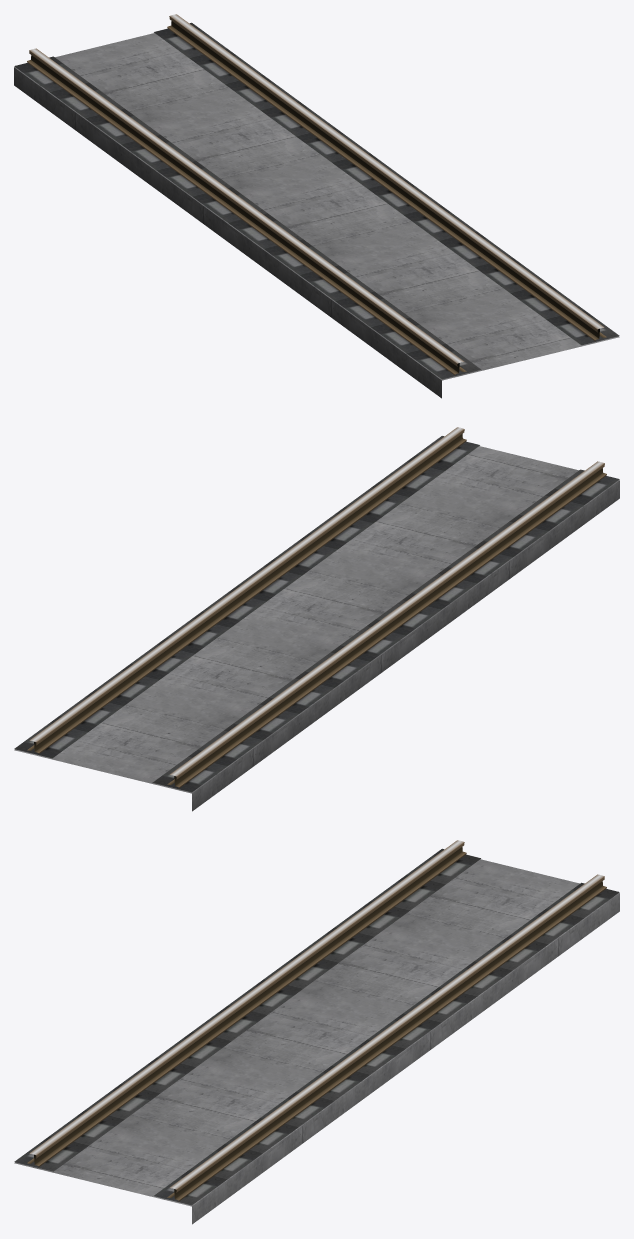
File: KIN_1RAIL_CHIKA25.glb
3 renders of one model, top to bottom at view 1: azimuth 30°, elevation 25°; view 2: azimuth 150°, elevation 25°; view 3: azimuth 330°, elevation 25°, orthographic.
Visible parts, largest first — view 1: obj2; view 2: obj2; view 3: obj2.
Part boxes in pixels (x1,y1,x2,y2): obj2: (14, 14, 619, 398); obj2: (14, 427, 619, 811); obj2: (14, 840, 619, 1224).
Bounding box in the file's own units: 6 × 1.02 × 25.
4 materials, 3 textured.
